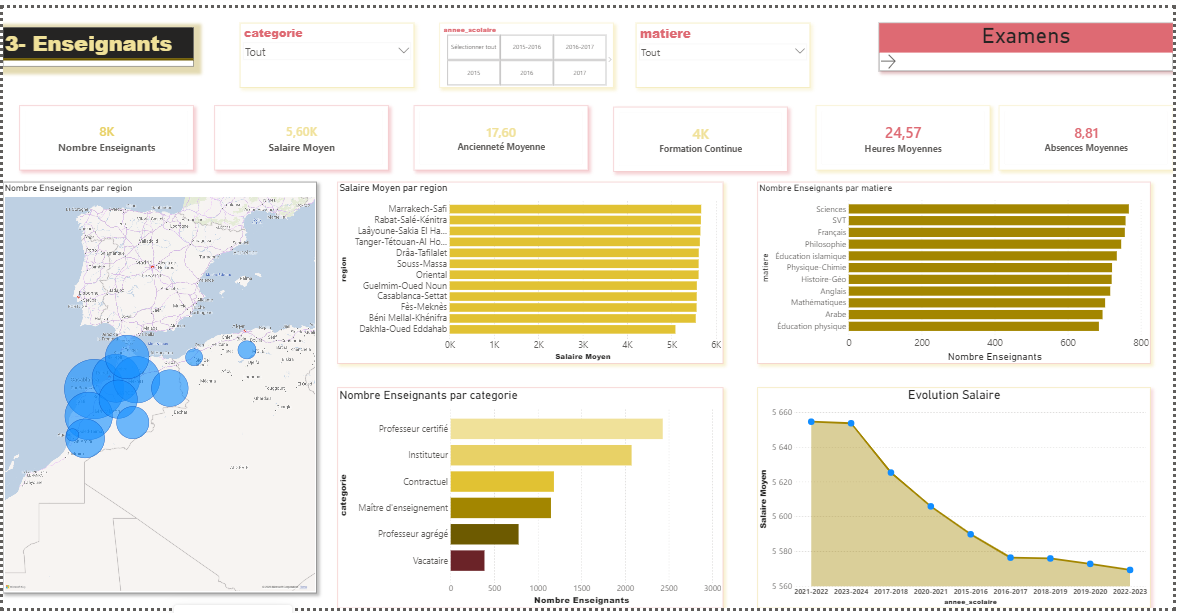

What the dashboard file says about the page in this screenshot:
{"tool":"powerbi","page":{"name":"Enseignants","canvas":[3900,2000],"ordinal":2},"visuals":[{"type":"map","fields":{"Size":["Mesures.Nombre Enseignants"],"Category":["gold dim_region.region"]},"box":[0,580,1045,1370],"z":0},{"type":"barChart","fields":{"Category":["gold dim_region.region"],"Y":["Mesures.Salaire Moyen"]},"box":[1115,580,1285,605],"z":1},{"type":"barChart","fields":{"Y":["Mesures.Nombre Enseignants"],"Category":["gold fact_enseignants.matiere"]},"box":[2515,580,1310,605],"z":2},{"type":"barChart","fields":{"Category":["gold fact_enseignants.categorie"],"Y":["Mesures.Nombre Enseignants"]},"box":[1115,1265,1285,735],"z":3},{"type":"lineChart","title":"Evolution Salaire","fields":{"Y":["Mesures.Salaire Moyen"],"Category":["gold dim_date.annee_scolaire"]},"box":[2515,1265,1310,735],"z":4},{"type":"cardVisual","fields":{"Data":["Mesures.Nombre Enseignants"]},"box":[55,325,580,215],"z":5},{"type":"cardVisual","fields":{"Data":["Mesures.Salaire Moyen"]},"box":[705,325,580,215],"z":6},{"type":"cardVisual","fields":{"Data":["Mesures.Ancienneté Moyenne"]},"box":[1370,325,580,215],"z":7},{"type":"cardVisual","fields":{"Data":["Mesures.Formation Continue"]},"box":[2035,330,580,215],"z":8},{"type":"cardVisual","fields":{"Data":["Mesures.Heures Moyennes"]},"box":[2710,325,580,215],"z":9},{"type":"cardVisual","fields":{"Data":["Mesures.Absences Moyennes"]},"box":[3320,325,580,215],"z":10},{"type":"slicer","fields":{"Values":["gold fact_enseignants.categorie"]},"box":[790,50,580,215],"z":11},{"type":"slicer","fields":{"Values":["gold dim_date.annee_scolaire"]},"box":[1455,50,580,215],"z":12},{"type":"slicer","fields":{"Values":["gold fact_enseignants.matiere"]},"box":[2110,50,580,215],"z":13},{"type":"actionButton","title":"Examens","box":[2920,50,980,160],"z":14},{"type":"textbox","title":"3- Enseignants ","box":[0,65,635,130],"z":15}]}

Visuals, with their boxes in screenshot pixels (x1, y1, x2, y2), scaled from the page's 3900x2000 canvas onto the 1180x613 screenshot:
map - Mesures.Nombre Enseignants x gold dim_region.region: (0, 178, 316, 598)
barChart - gold dim_region.region x Mesures.Salaire Moyen: (337, 178, 726, 363)
barChart - Mesures.Nombre Enseignants x gold fact_enseignants.matiere: (761, 178, 1157, 363)
barChart - gold fact_enseignants.categorie x Mesures.Nombre Enseignants: (337, 388, 726, 612)
"Evolution Salaire" lineChart: (761, 388, 1157, 612)
cardVisual - Mesures.Nombre Enseignants: (17, 100, 192, 166)
cardVisual - Mesures.Salaire Moyen: (213, 100, 389, 166)
cardVisual - Mesures.Ancienneté Moyenne: (415, 100, 590, 166)
cardVisual - Mesures.Formation Continue: (616, 101, 791, 167)
cardVisual - Mesures.Heures Moyennes: (820, 100, 995, 166)
cardVisual - Mesures.Absences Moyennes: (1005, 100, 1179, 166)
slicer - gold fact_enseignants.categorie: (239, 15, 415, 81)
slicer - gold dim_date.annee_scolaire: (440, 15, 616, 81)
slicer - gold fact_enseignants.matiere: (638, 15, 814, 81)
"Examens" actionButton: (883, 15, 1179, 64)
"3- Enseignants " textbox: (0, 20, 192, 60)
